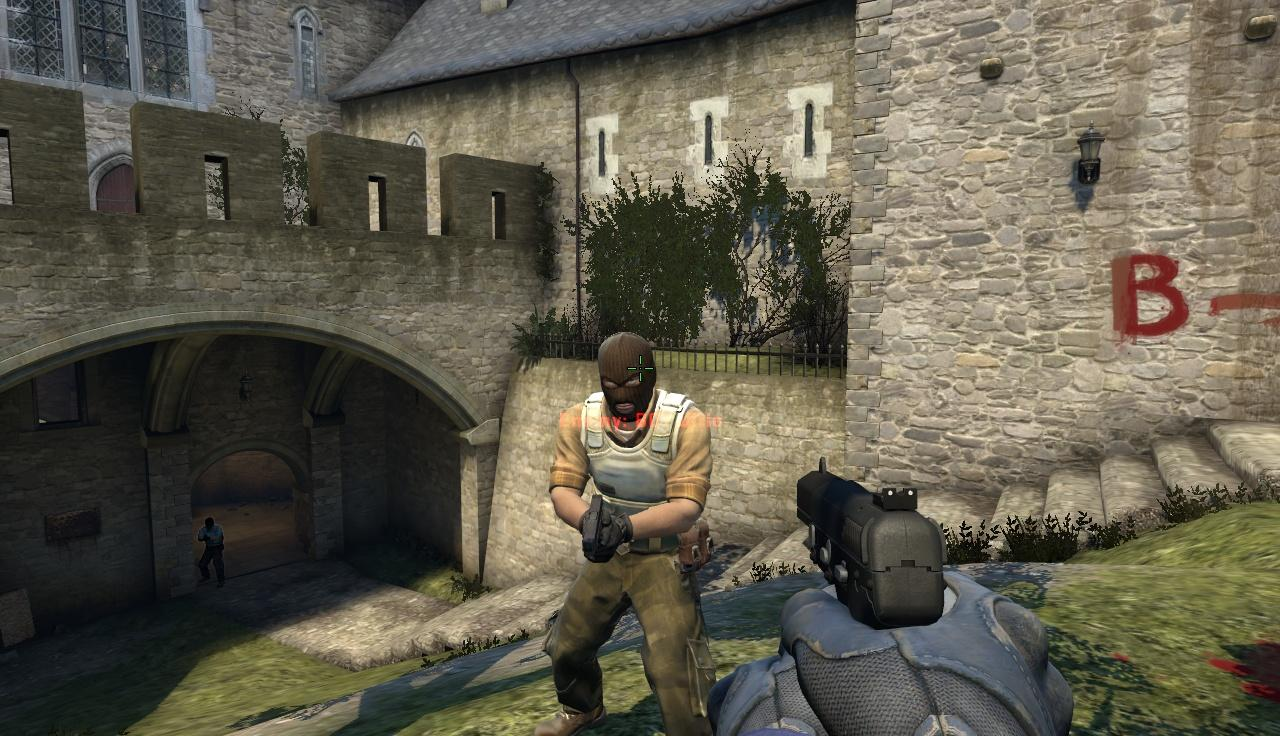pistol: (794, 455, 1066, 736)
tt: (563, 334, 710, 736), (199, 517, 224, 586)
tthead: (601, 336, 655, 417), (205, 517, 214, 528)
